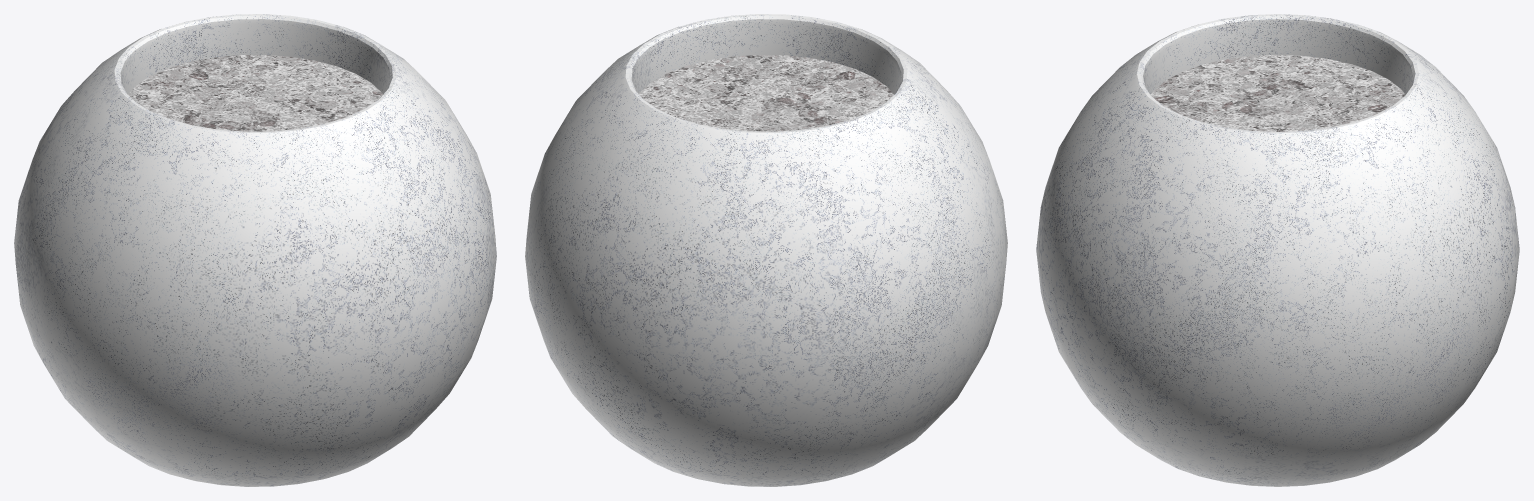
Rendered from Pot_B1.fbx.
3 views of the same model, side by side, from view 1: azimuth 30°, elevation 25°; view 2: azimuth 150°, elevation 25°; view 3: azimuth 270°, elevation 25° (orthographic).
Parts seen in each view (by area): view 1: Pot_B1; view 2: Pot_B1; view 3: Pot_B1.
Part boxes in pixels (<box>): Pot_B1: <box>14,14,496,486</box>; Pot_B1: <box>525,14,1007,486</box>; Pot_B1: <box>1036,14,1519,486</box>.
Size of the model in its own units: 0.1265 by 0.1034 by 0.1265.
